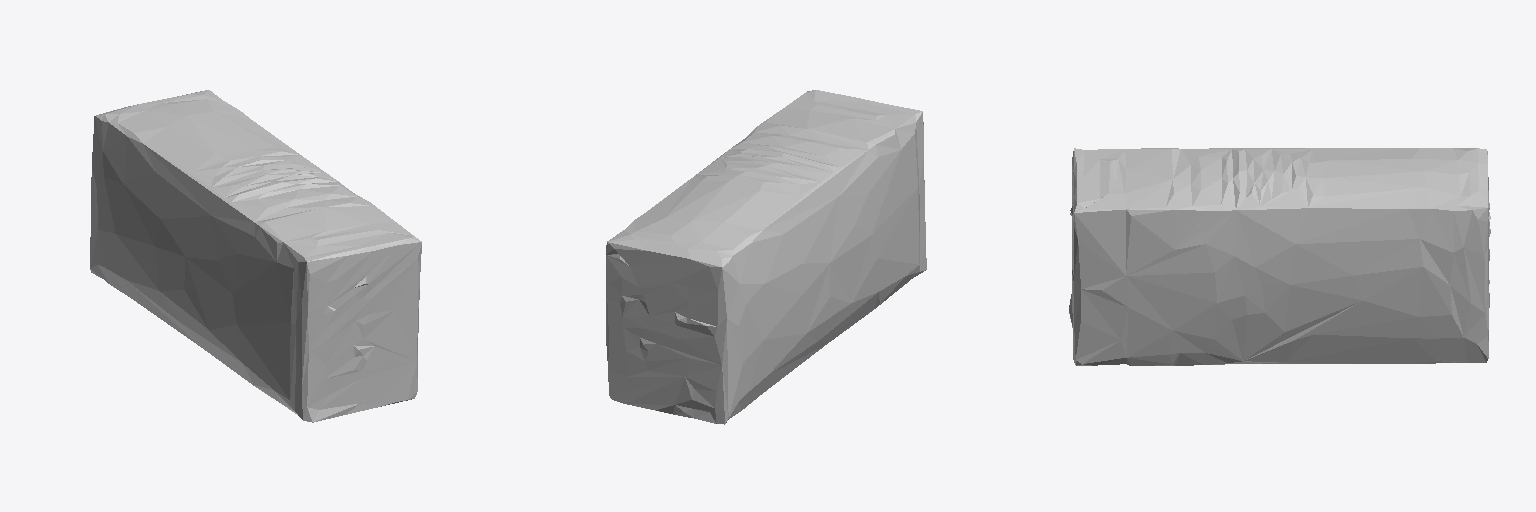
File: rectangularCube1.obj
The picture shows the model from 3 angles: view 1: azimuth 30°, elevation 25°; view 2: azimuth 150°, elevation 25°; view 3: azimuth 270°, elevation 25°; orthographic projection.
Visible parts, largest first — view 1: BlueSaltCube_800_tex; view 2: BlueSaltCube_800_tex; view 3: BlueSaltCube_800_tex.
Part boxes in pixels (left/top/right/bottom): BlueSaltCube_800_tex: left=90, top=90, right=421, bottom=422; BlueSaltCube_800_tex: left=606, top=90, right=926, bottom=424; BlueSaltCube_800_tex: left=1069, top=148, right=1490, bottom=365.
Size of the model in its own units: 0.0366 by 0.045 by 0.0986.